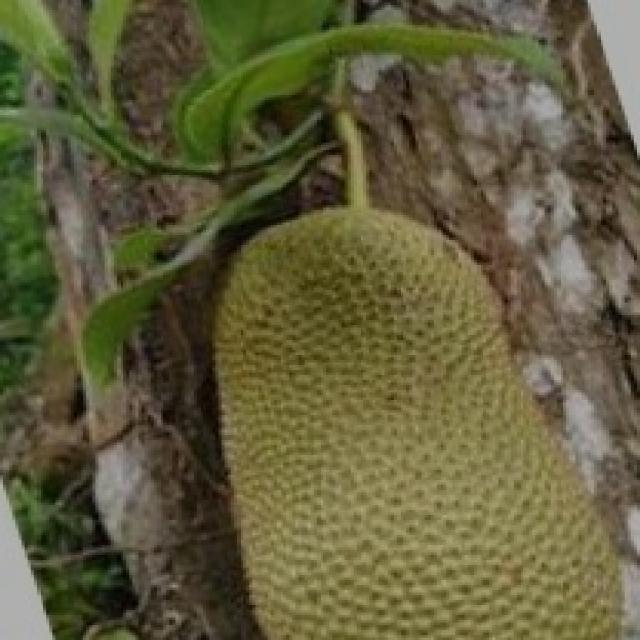Fruit: (182, 177, 628, 635)
